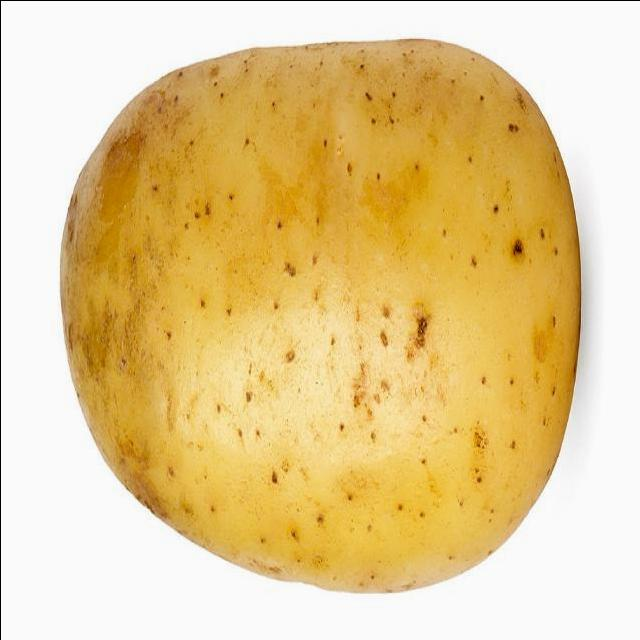potato: (59, 41, 578, 593)
